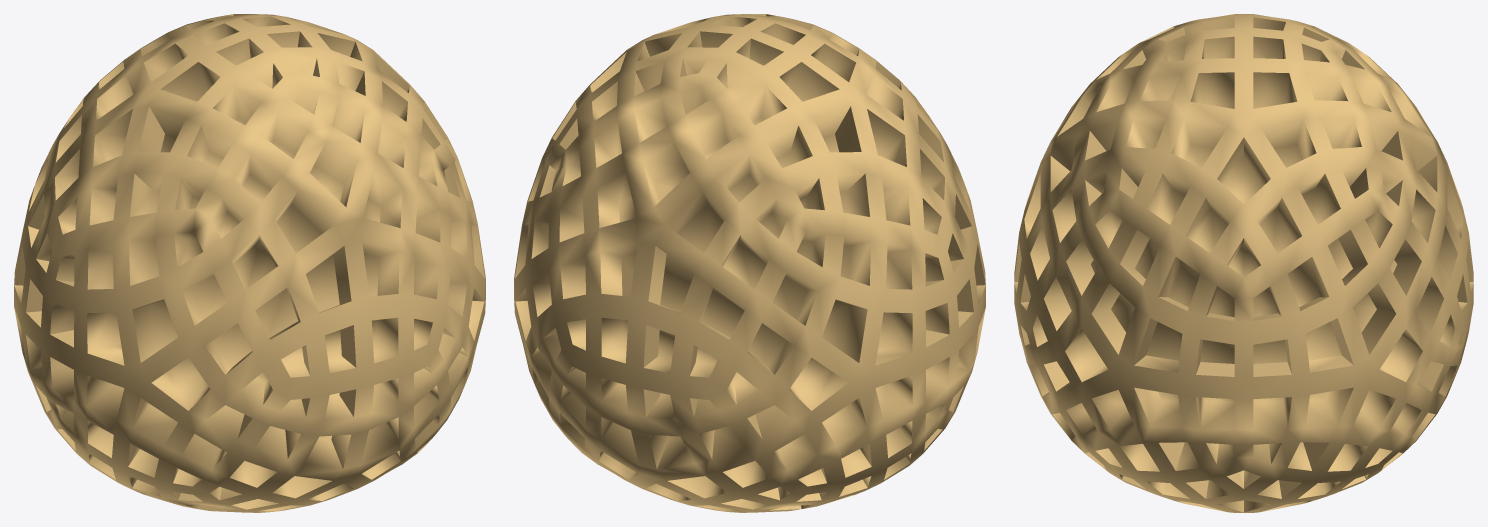
The model's file is com_bath2_esponja.obj.
3 renders of one model, left to right at view 1: azimuth 30°, elevation 25°; view 2: azimuth 150°, elevation 25°; view 3: azimuth 270°, elevation 25°, orthographic.
Visible parts, largest first — view 1: esponja_icosahedro_1_1; view 2: esponja_icosahedro_1_1; view 3: esponja_icosahedro_1_1.
Boxes of the visible parts, <box> form: esponja_icosahedro_1_1: <box>14,14,485,512</box>; esponja_icosahedro_1_1: <box>514,14,985,512</box>; esponja_icosahedro_1_1: <box>1014,14,1473,512</box>.
Size of the model in its own units: 9.54 by 10.1 by 9.31.
